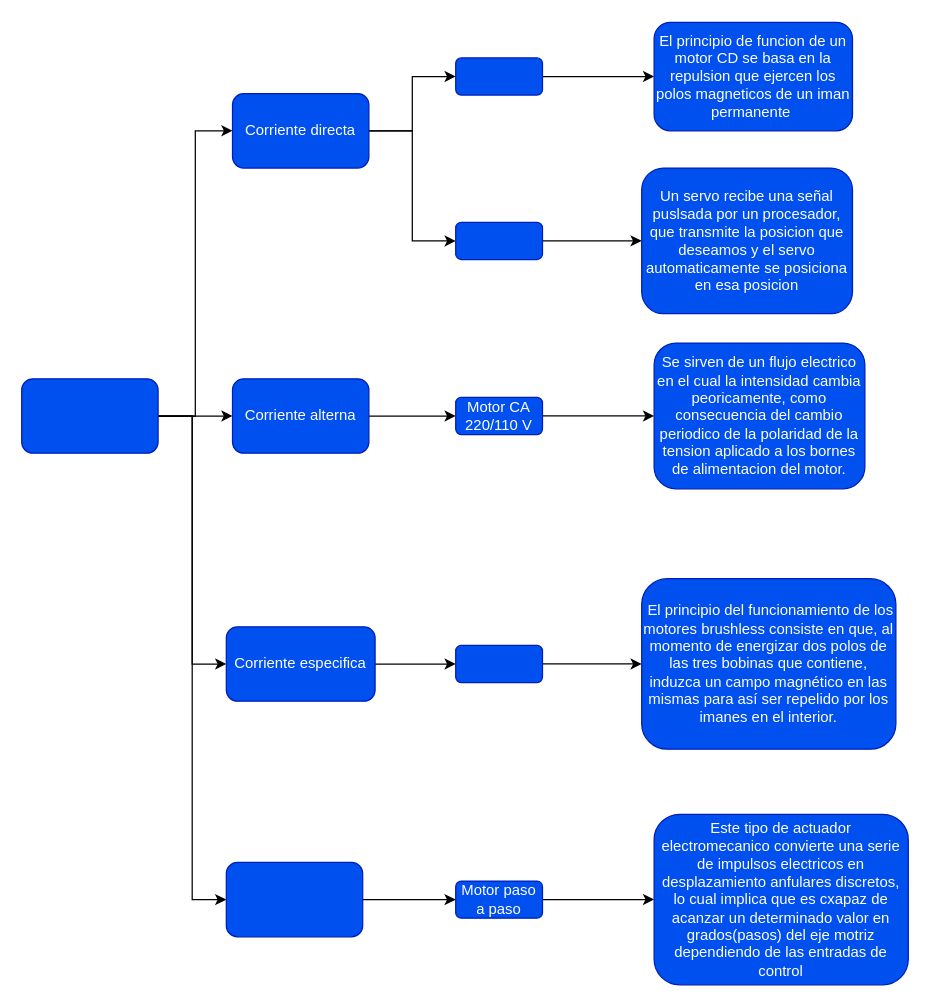
Image size: 930x1007. Some labels were removed from this diagram. The centre of each missing label's shape, as x and y in pixels:
Motor brushless: (x=498, y=663)
Motor CD: (x=498, y=76)
Paso a paso: (x=294, y=899)
Servomotores: (x=498, y=240)
TIPOS DE MOTORES ELECTRICOS: (x=89, y=415)
